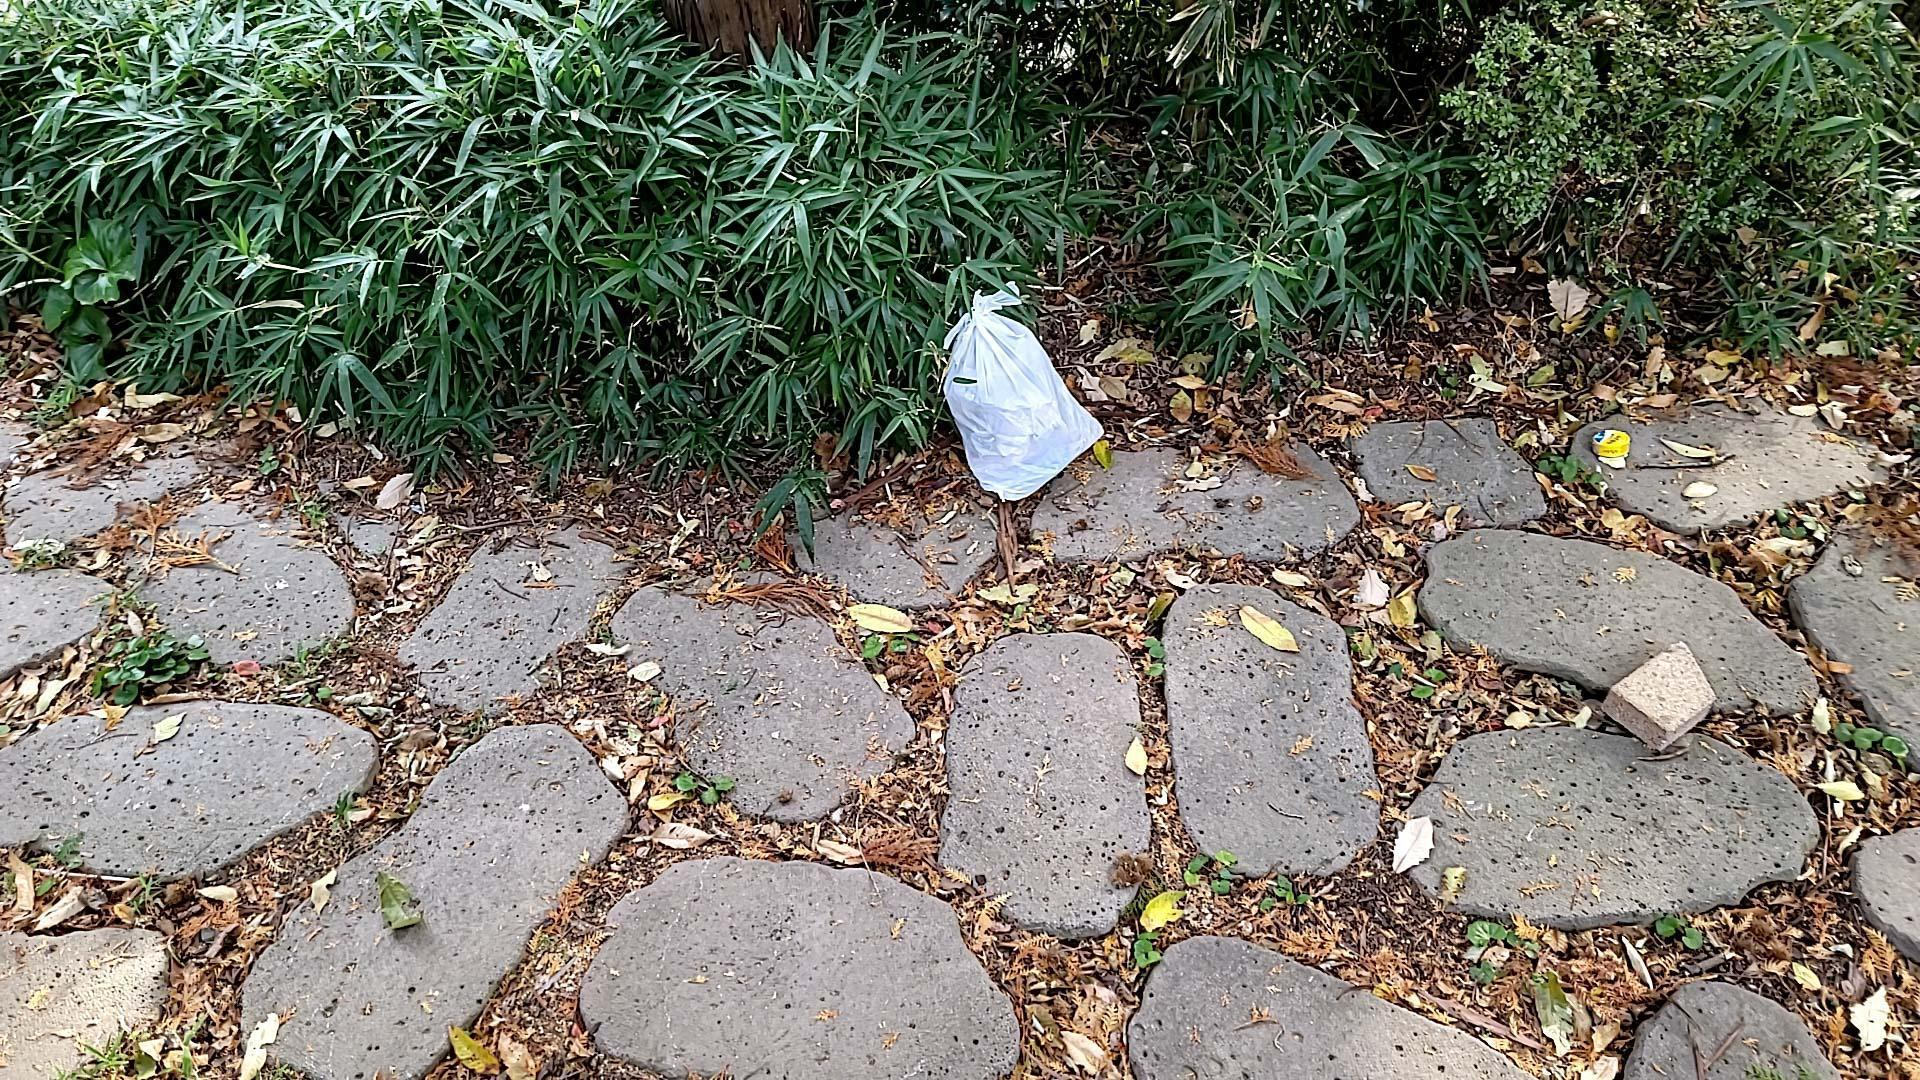white_bag: (913, 276, 1134, 512)
